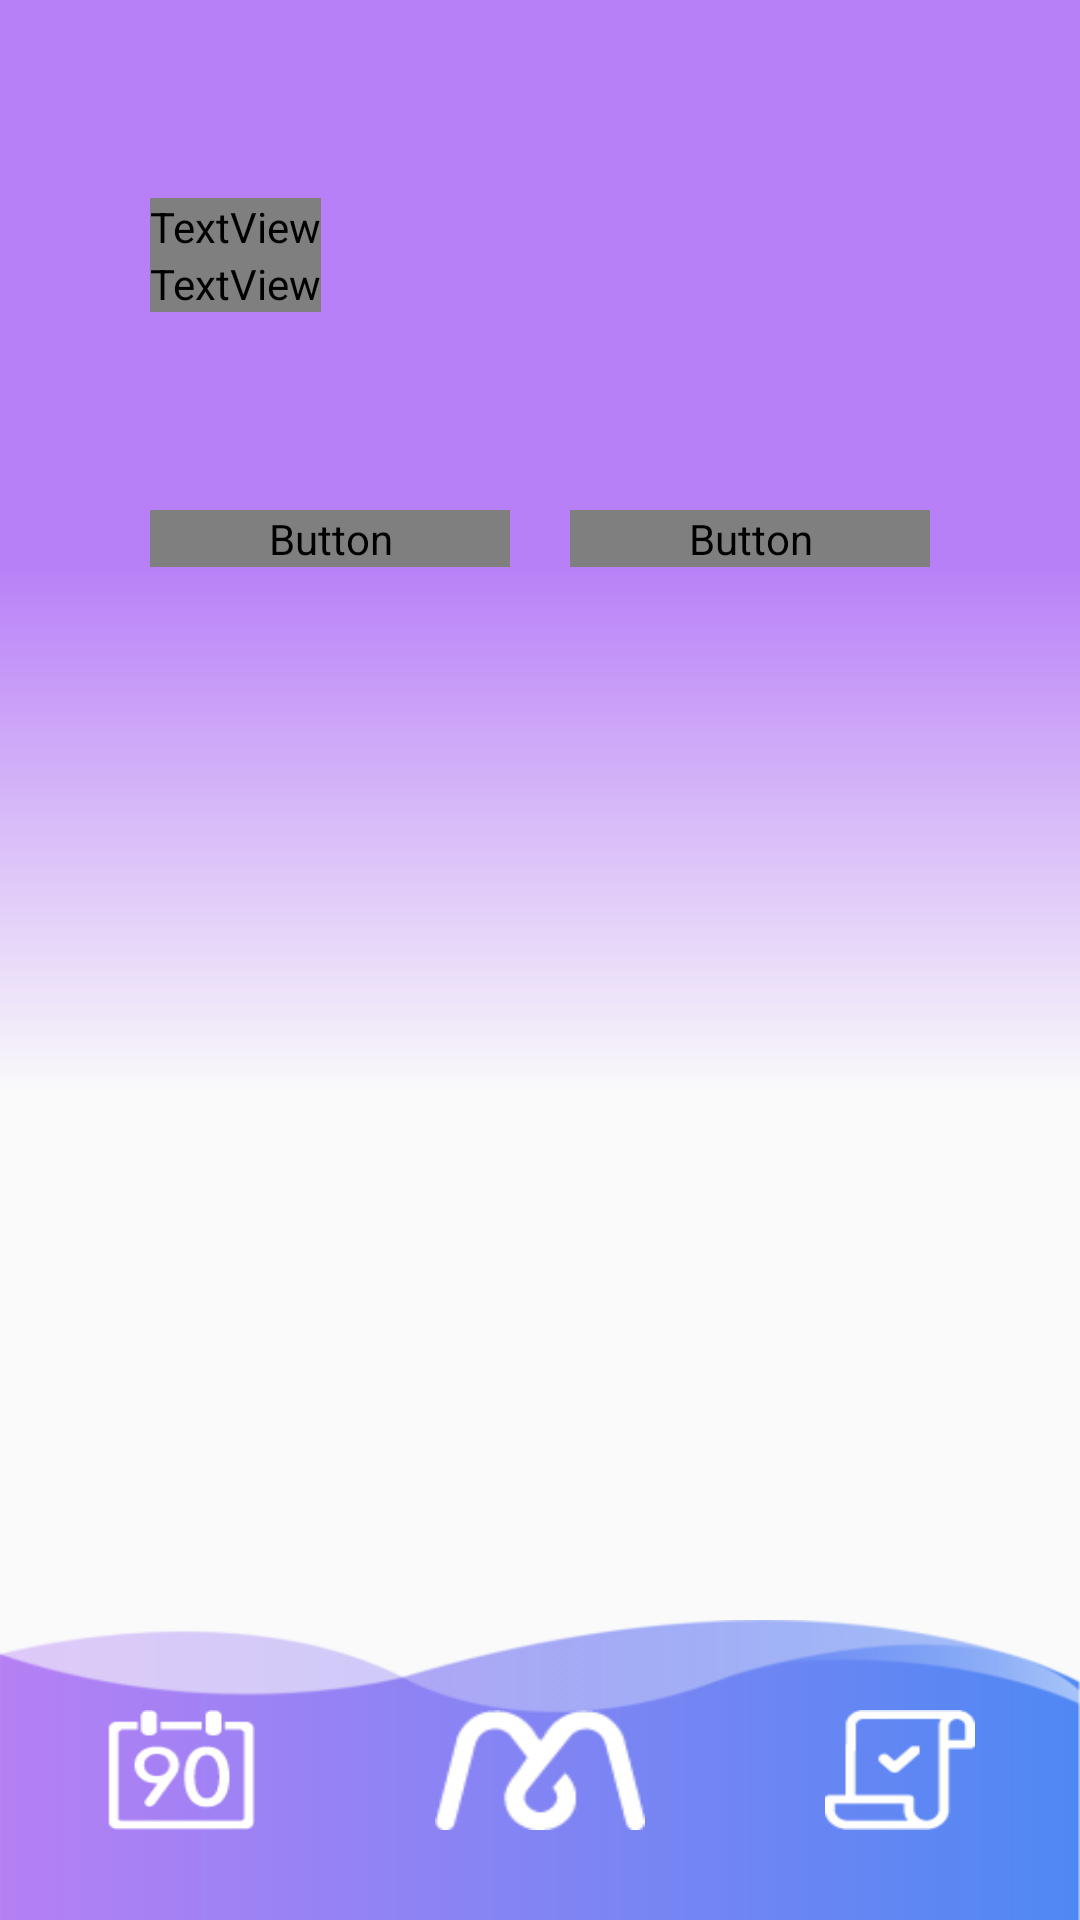

Icons on this 1080 x 1920 Android screen, each with the point to tap as (x=x, y=y):
calander: (x=181, y=1770)
quest: (x=900, y=1770)
